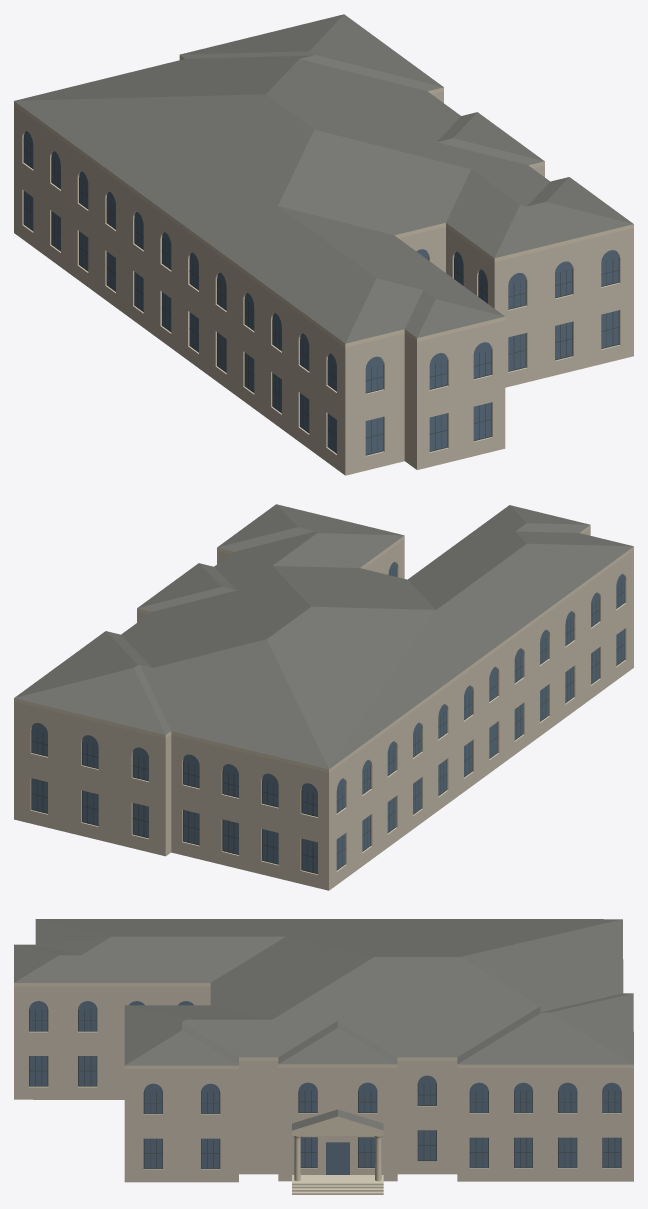
File: dc-au-battelle-tompkins-memorial-building.detail.glb
3 renders of one model, top to bottom at view 1: azimuth 30°, elevation 25°; view 2: azimuth 150°, elevation 25°; view 3: azimuth 270°, elevation 25°, orthographic. The views are drawn at different scales.
Parts seen in each view (by area): view 1: Battelle-Tompkins Memorial Building; view 2: Battelle-Tompkins Memorial Building; view 3: Battelle-Tompkins Memorial Building.
Boxes of the visible parts, <box> form: Battelle-Tompkins Memorial Building: <box>14,14,633,475</box>; Battelle-Tompkins Memorial Building: <box>14,504,633,890</box>; Battelle-Tompkins Memorial Building: <box>14,919,633,1194</box>.
Size of the model in its own units: 31.16 by 13.55 by 51.41.
